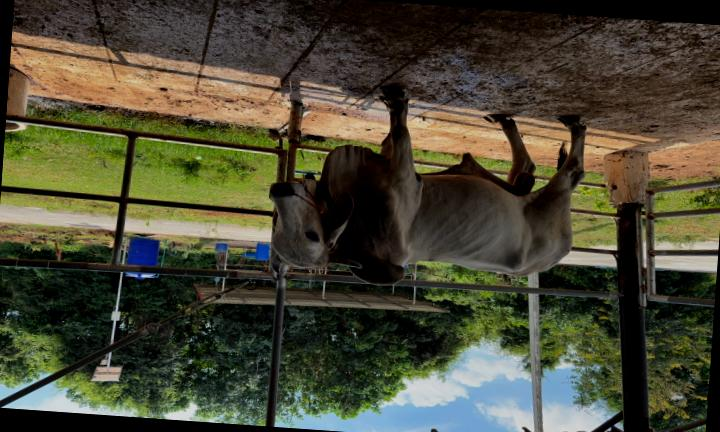Brahman: (270, 87, 586, 285)
